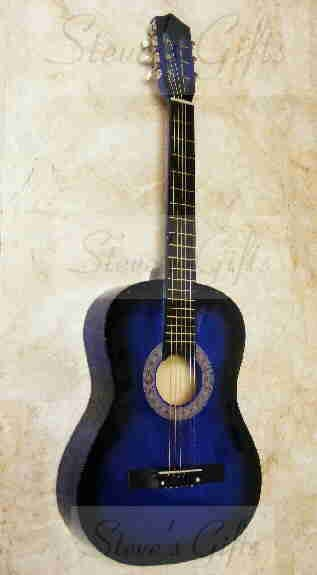guitar: (55, 12, 264, 568)
